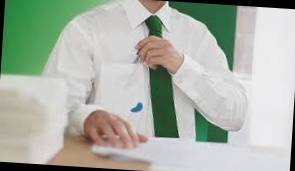ink: (131, 101, 144, 113)
